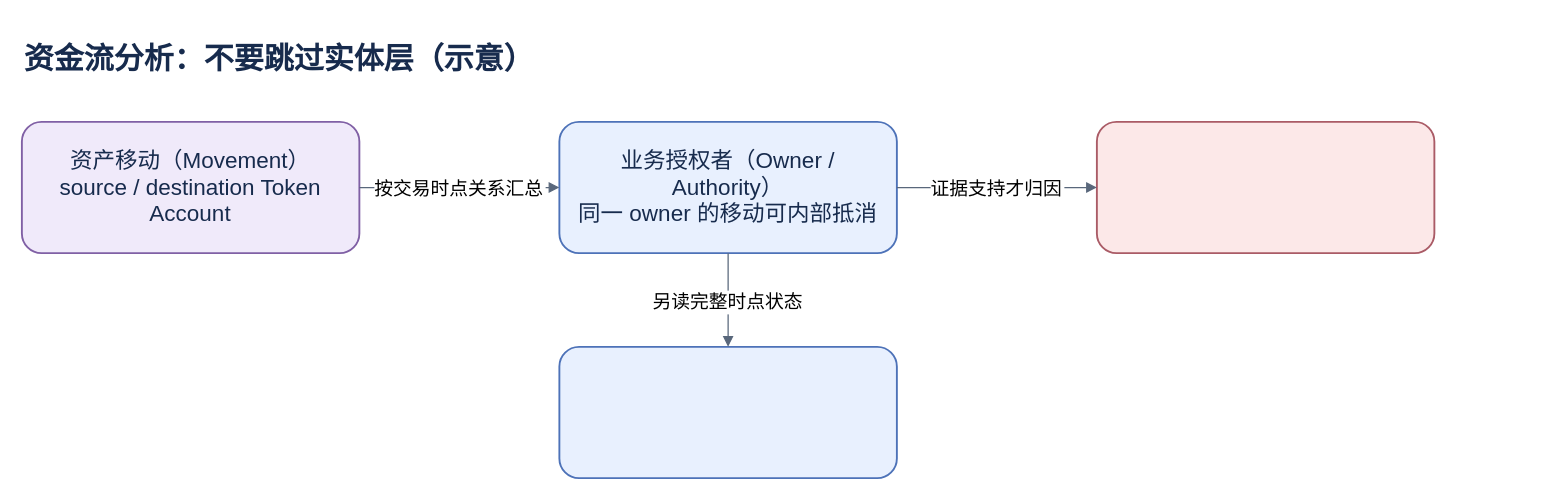
Image size: 1544x500. Some labels were removed from this diagram. The shapes that lost their labels are listed below. From the top down, each one's box as (x1, y1, x2, y2) in pixels, then its label:
(1095, 120, 1435, 254): 实体归因（Entity Attribution） 需额外证据；地址不等于人
(558, 345, 897, 478): 资产存量（Balance） 时点状态，不能仅由短期流量代替
